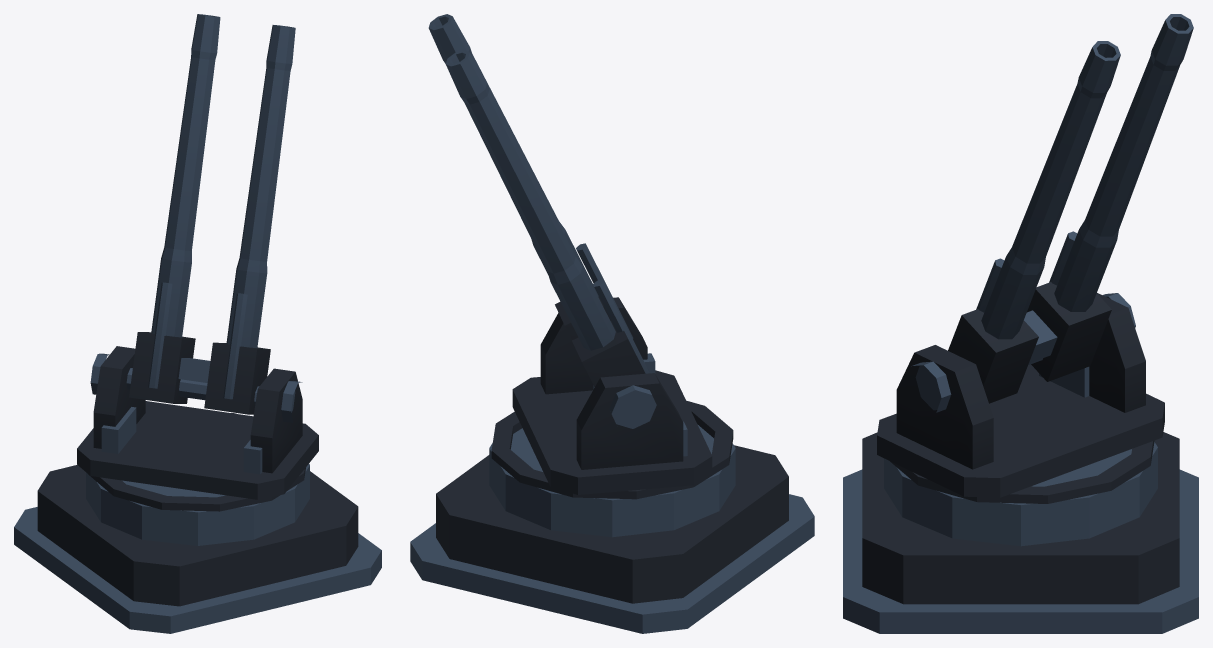
Rendered from fortress-rooftop-flak.glb.
3 renders of one model, left to right at view 1: azimuth 30°, elevation 25°; view 2: azimuth 150°, elevation 25°; view 3: azimuth 270°, elevation 25°, orthographic. The views are drawn at different scales.
Parts seen in each view (by area): view 1: sloped_armour_plinth, rotating_cradle_deck, roof_contact_shoe, jacket_and_recessed_bore_R, jacket_and_recessed_bore_L, fixed_azimuth_bearing, trunnion_yoke_R, recoil_receiver_R, recoil_receiver_L, trunnion_yoke_L, azimuth_split_ring, recoil_piston_R (+5 smaller); view 2: sloped_armour_plinth, roof_contact_shoe, jacket_and_recessed_bore_L, rotating_cradle_deck, fixed_azimuth_bearing, trunnion_yoke_L, azimuth_split_ring, trunnion_yoke_R, recoil_receiver_L, jacket_and_recessed_bore_R, bearing_cap_L, recoil_piston_L (+1 smaller); view 3: sloped_armour_plinth, rotating_cradle_deck, roof_contact_shoe, fixed_azimuth_bearing, jacket_and_recessed_bore_R, jacket_and_recessed_bore_L, trunnion_yoke_R, trunnion_yoke_L, recoil_receiver_R, recoil_receiver_L, azimuth_split_ring, bearing_cap_R (+4 smaller).
Boxes of the visible parts, x1=… form: sloped_armour_plinth: x1=37, y1=465, x2=358, y2=606; rotating_cradle_deck: x1=77, y1=401, x2=318, y2=499; roof_contact_shoe: x1=14, y1=507, x2=381, y2=633; jacket_and_recessed_bore_R: x1=226, y1=25, x2=295, y2=347; jacket_and_recessed_bore_L: x1=151, y1=14, x2=220, y2=337; fixed_azimuth_bearing: x1=86, y1=464, x2=309, y2=545; trunnion_yoke_R: x1=250, y1=368, x2=302, y2=473; recoil_receiver_R: x1=204, y1=342, x2=270, y2=414; recoil_receiver_L: x1=129, y1=332, x2=195, y2=403; trunnion_yoke_L: x1=93, y1=346, x2=145, y2=448; azimuth_split_ring: x1=88, y1=413, x2=305, y2=511; recoil_piston_R: x1=223, y1=293, x2=247, y2=399; sloped_armour_plinth: x1=436, y1=445, x2=788, y2=603; roof_contact_shoe: x1=410, y1=494, x2=814, y2=633; jacket_and_recessed_bore_L: x1=445, y1=50, x2=615, y2=350; rotating_cradle_deck: x1=512, y1=370, x2=712, y2=494; fixed_azimuth_bearing: x1=489, y1=424, x2=735, y2=537; trunnion_yoke_L: x1=576, y1=373, x2=683, y2=469; azimuth_split_ring: x1=491, y1=400, x2=733, y2=499; trunnion_yoke_R: x1=540, y1=297, x2=647, y2=394; recoil_receiver_L: x1=572, y1=321, x2=645, y2=386; jacket_and_recessed_bore_R: x1=428, y1=14, x2=598, y2=296; bearing_cap_L: x1=609, y1=385, x2=656, y2=428; recoil_piston_L: x1=593, y1=279, x2=649, y2=373; sloped_armour_plinth: x1=862, y1=432, x2=1179, y2=604; rotating_cradle_deck: x1=877, y1=364, x2=1164, y2=497; roof_contact_shoe: x1=843, y1=469, x2=1198, y2=633; fixed_azimuth_bearing: x1=884, y1=442, x2=1157, y2=546; jacket_and_recessed_bore_R: x1=981, y1=41, x2=1120, y2=339; jacket_and_recessed_bore_L: x1=1054, y1=14, x2=1193, y2=311; trunnion_yoke_R: x1=896, y1=345, x2=993, y2=469; trunnion_yoke_L: x1=1089, y1=293, x2=1145, y2=412; recoil_receiver_R: x1=948, y1=309, x2=1038, y2=403; recoil_receiver_L: x1=1027, y1=282, x2=1111, y2=381; azimuth_split_ring: x1=890, y1=440, x2=1154, y2=503; bearing_cap_R: x1=911, y1=361, x2=951, y2=412.
Bounding box in the file's own units: 3.37 × 5.99 × 3.3.
